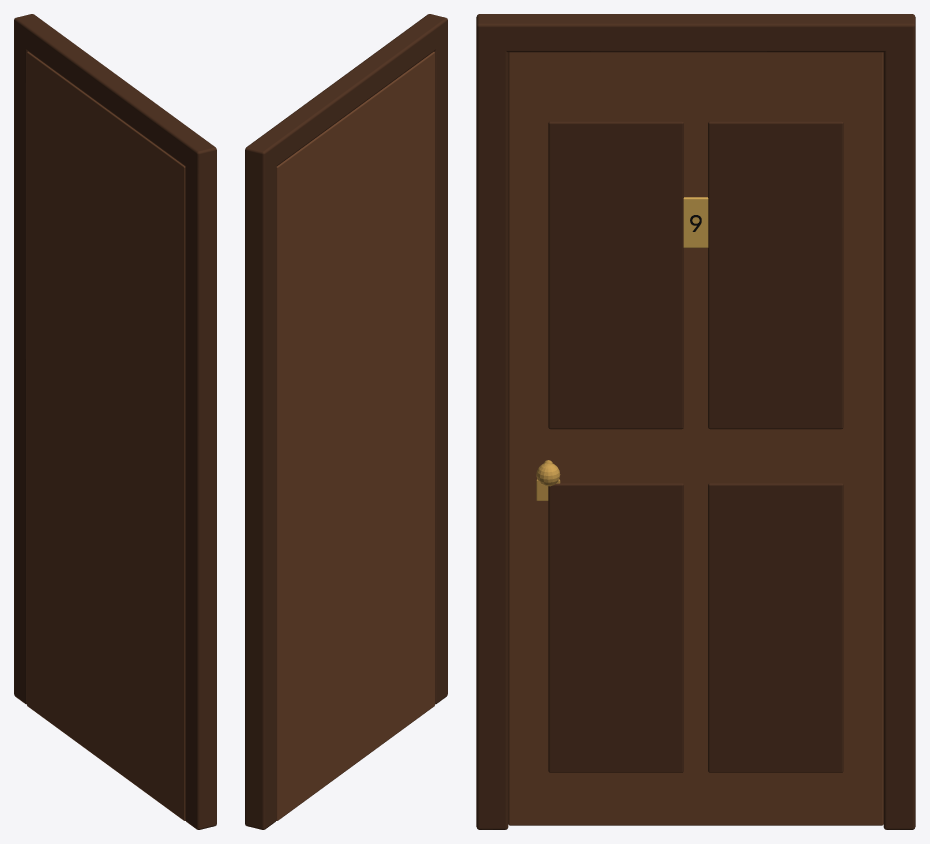
File: hotel_door_e.glb
3 renders of one model, left to right at view 1: azimuth 30°, elevation 25°; view 2: azimuth 150°, elevation 25°; view 3: azimuth 270°, elevation 25°, orthographic. The views are drawn at different scales.
Visible parts, largest first — view 1: blatt, zarge.001, zarge, zarge.002; view 2: blatt, zarge, zarge.001, zarge.002; view 3: blatt, kassette.002, kassette.003, kassette.001, kassette, zarge, zarge.001, zarge.002, plakette.
Boxes of the visible parts, <box> form: blatt: <box>27,51,185,820</box>; zarge.001: <box>185,139,216,829</box>; zarge: <box>14,14,43,704</box>; zarge.002: <box>14,15,216,173</box>; blatt: <box>276,51,434,820</box>; zarge: <box>245,139,276,829</box>; zarge.001: <box>419,14,447,704</box>; zarge.002: <box>245,14,447,173</box>; blatt: <box>508,52,883,825</box>; kassette.002: <box>548,121,683,429</box>; kassette.003: <box>708,121,843,429</box>; kassette.001: <box>708,483,843,772</box>; kassette: <box>548,483,683,772</box>; zarge: <box>883,14,915,829</box>; zarge.001: <box>476,14,508,829</box>; zarge.002: <box>476,14,915,52</box>; plakette: <box>683,197,708,247</box>.
Bounding box in the file's own units: 0.13 × 2.23 × 1.1.
